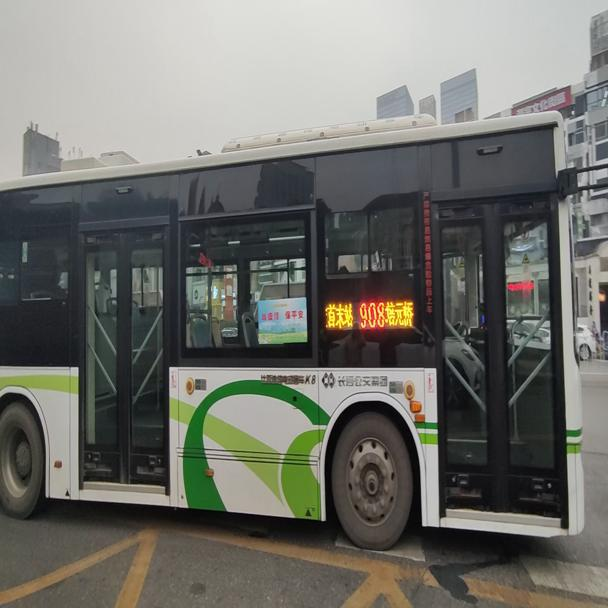bus: (3, 107, 588, 550)
screen: (359, 301, 385, 329)
